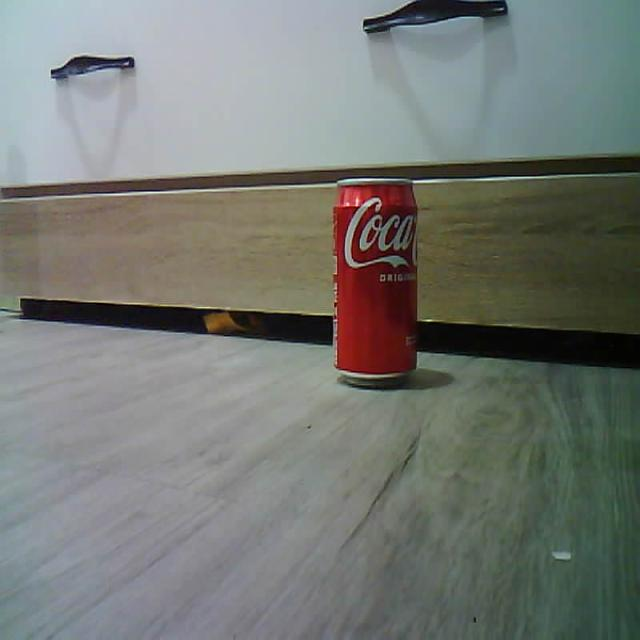can: (334, 178, 418, 382)
